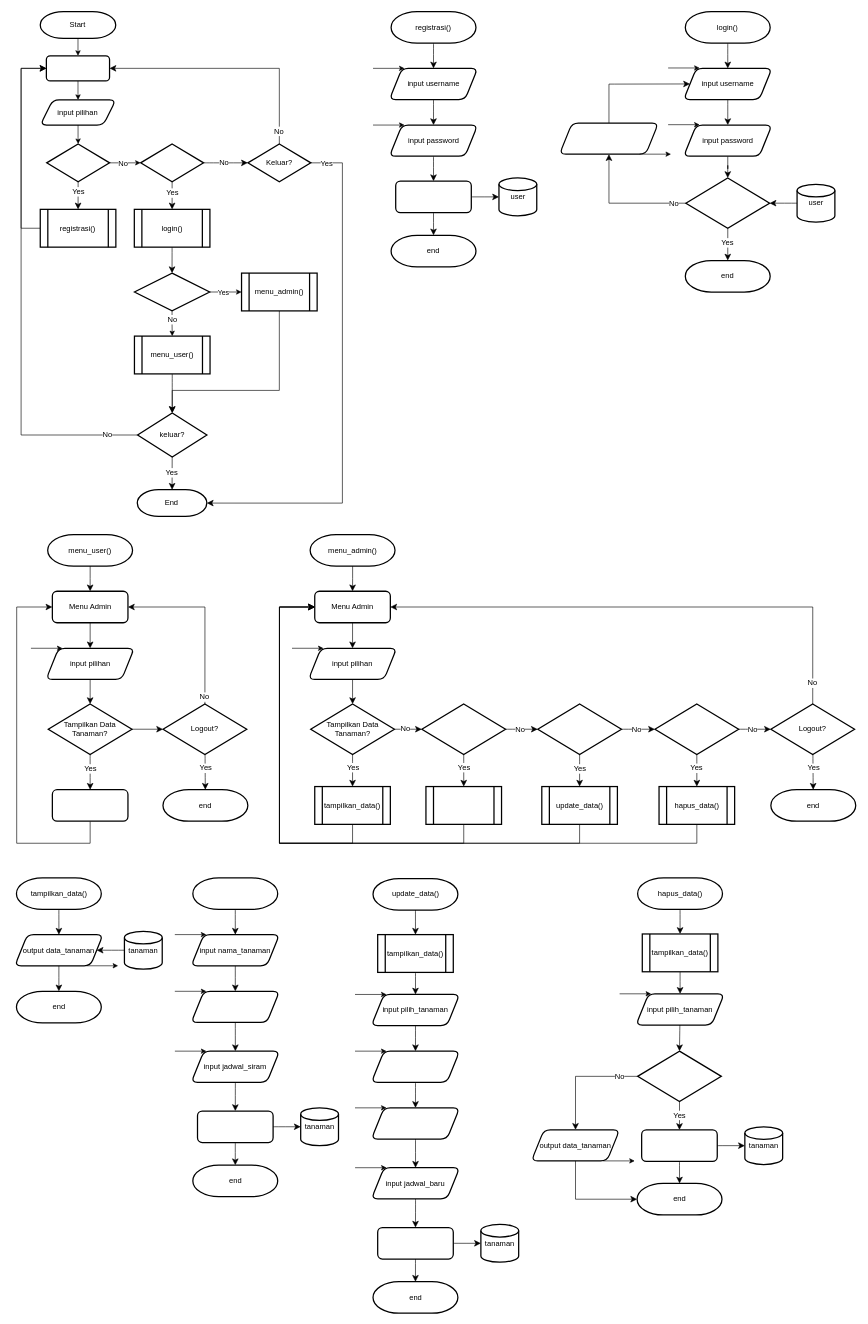
Image size: 868x1324. Some labels were removed from this diagram. Here are the shapes that lost their labels. From the top down, the centre of each, then its label:
point (77, 68): Menu Awal
point (609, 138): output "Username atau Password salah"
point (78, 162): Registrasi?
point (172, 162): Login?
point (433, 196): Simpan Data Pengguna
point (727, 203): Username dan password benar?
point (171, 291): admin?
point (463, 729): Tambahkan Data Tanaman?
point (579, 729): Edit Data Tanaman?
point (696, 729): Hapus Data Tanaman?
point (89, 805): Tampilkan Data Tanaman
point (463, 805): tambah_data()
point (235, 893): tambahkan_data()
point (235, 1006): input jenis_tanaman
point (415, 1066): input nama_baru
point (679, 1076): Yakin menghapus tanaman?
point (235, 1126): Simpan Data Tanaman
point (415, 1123): input jenis_baru
point (679, 1145): Hapus Tanaman
point (415, 1243): Perbarui Data Tanaman
